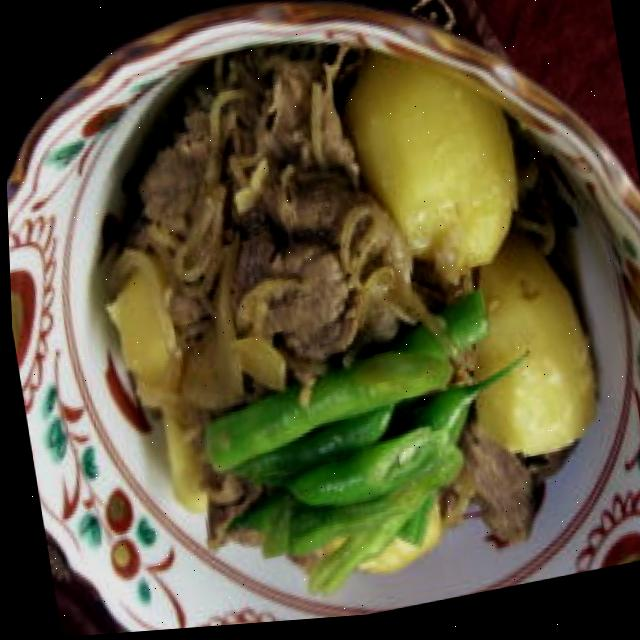牛肉菜式: (44, 0, 620, 637)
